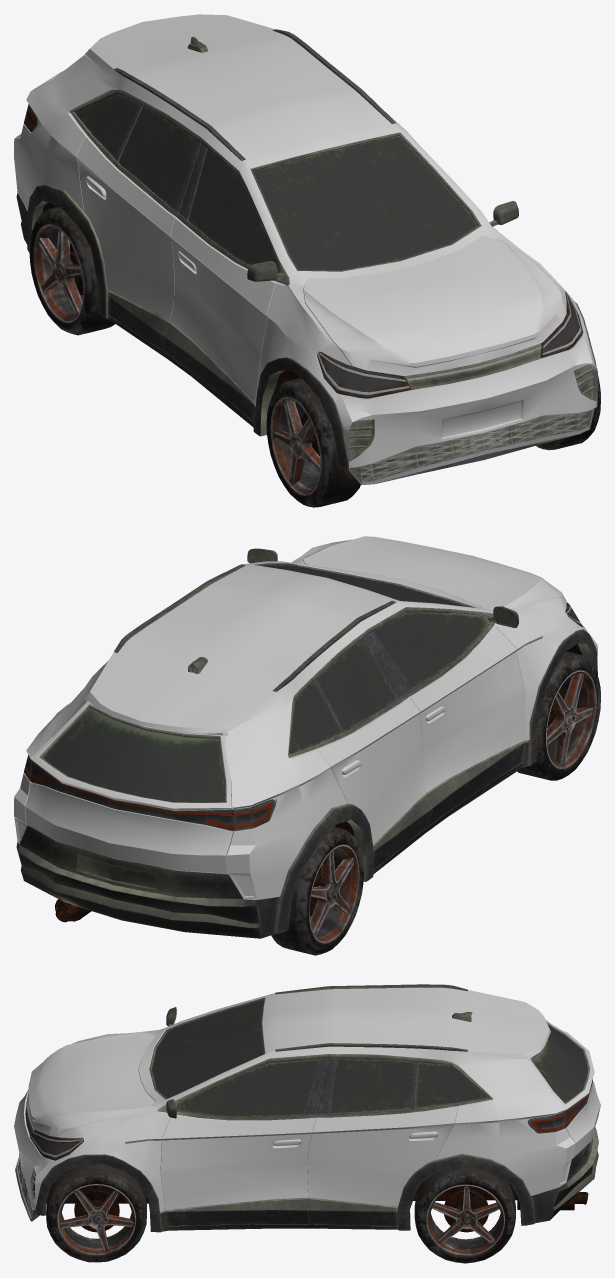
The model's file is car2.fbx.
3 views of the same model, one above another, from view 1: azimuth 30°, elevation 25°; view 2: azimuth 150°, elevation 25°; view 3: azimuth 270°, elevation 25° (orthographic). The views are drawn at different scales.
Visible parts, largest first — view 1: car2; view 2: car2; view 3: car2.
Boxes of the visible parts, x1,y1,x2,y2 form: car2: (14, 14, 600, 507); car2: (14, 536, 600, 955); car2: (14, 984, 600, 1263).
Size of the model in its own units: 1.81 by 1.61 by 4.25.
